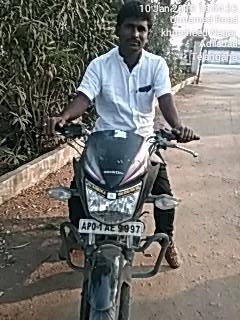plate: (77, 217, 147, 238)
